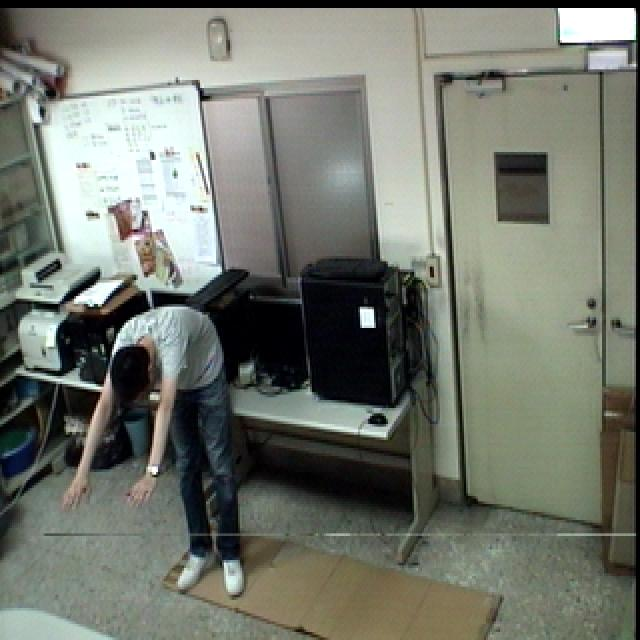bend: (56, 296, 262, 607)
